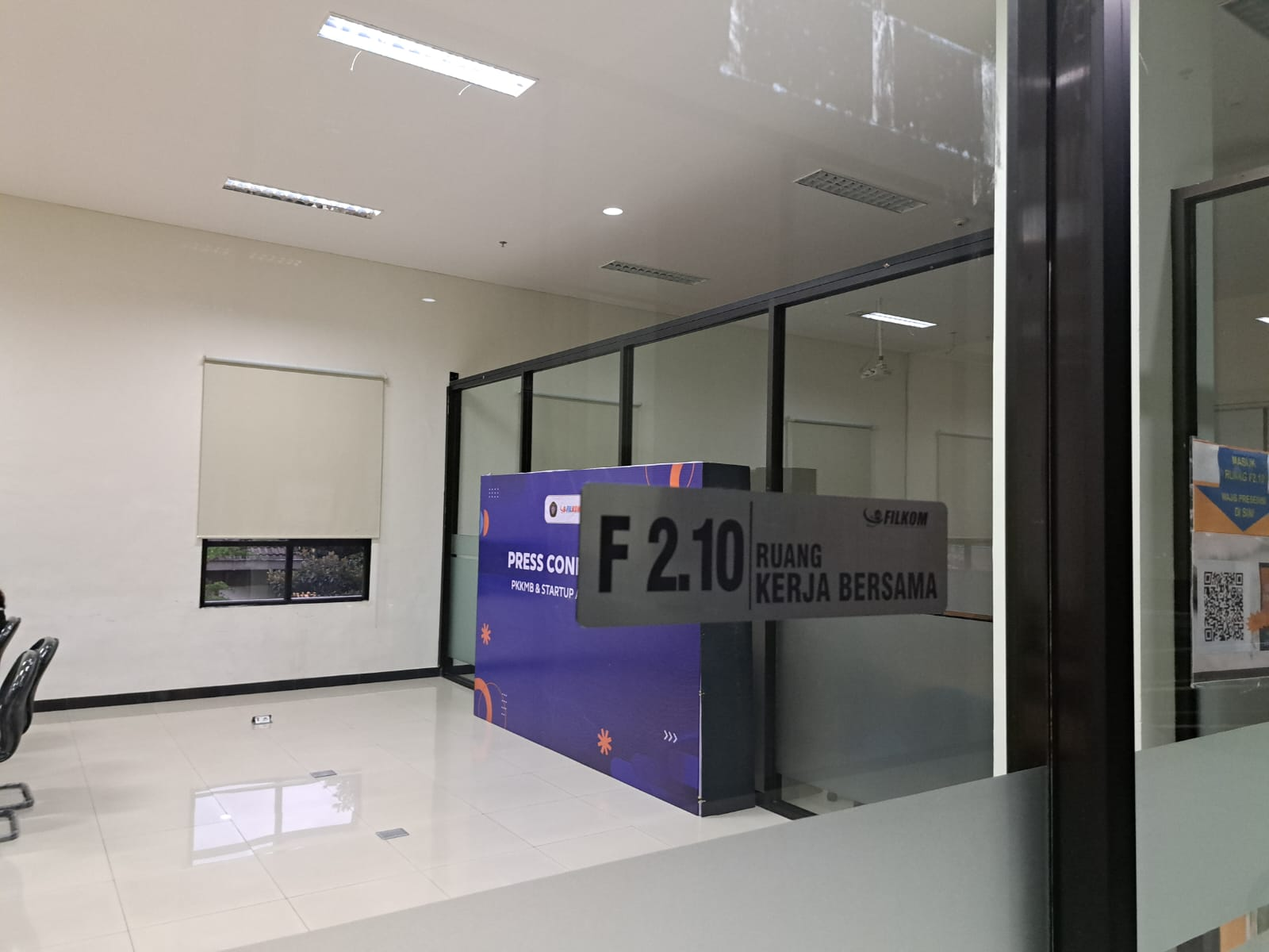ruang kerja bersama: (566, 481, 957, 641)
